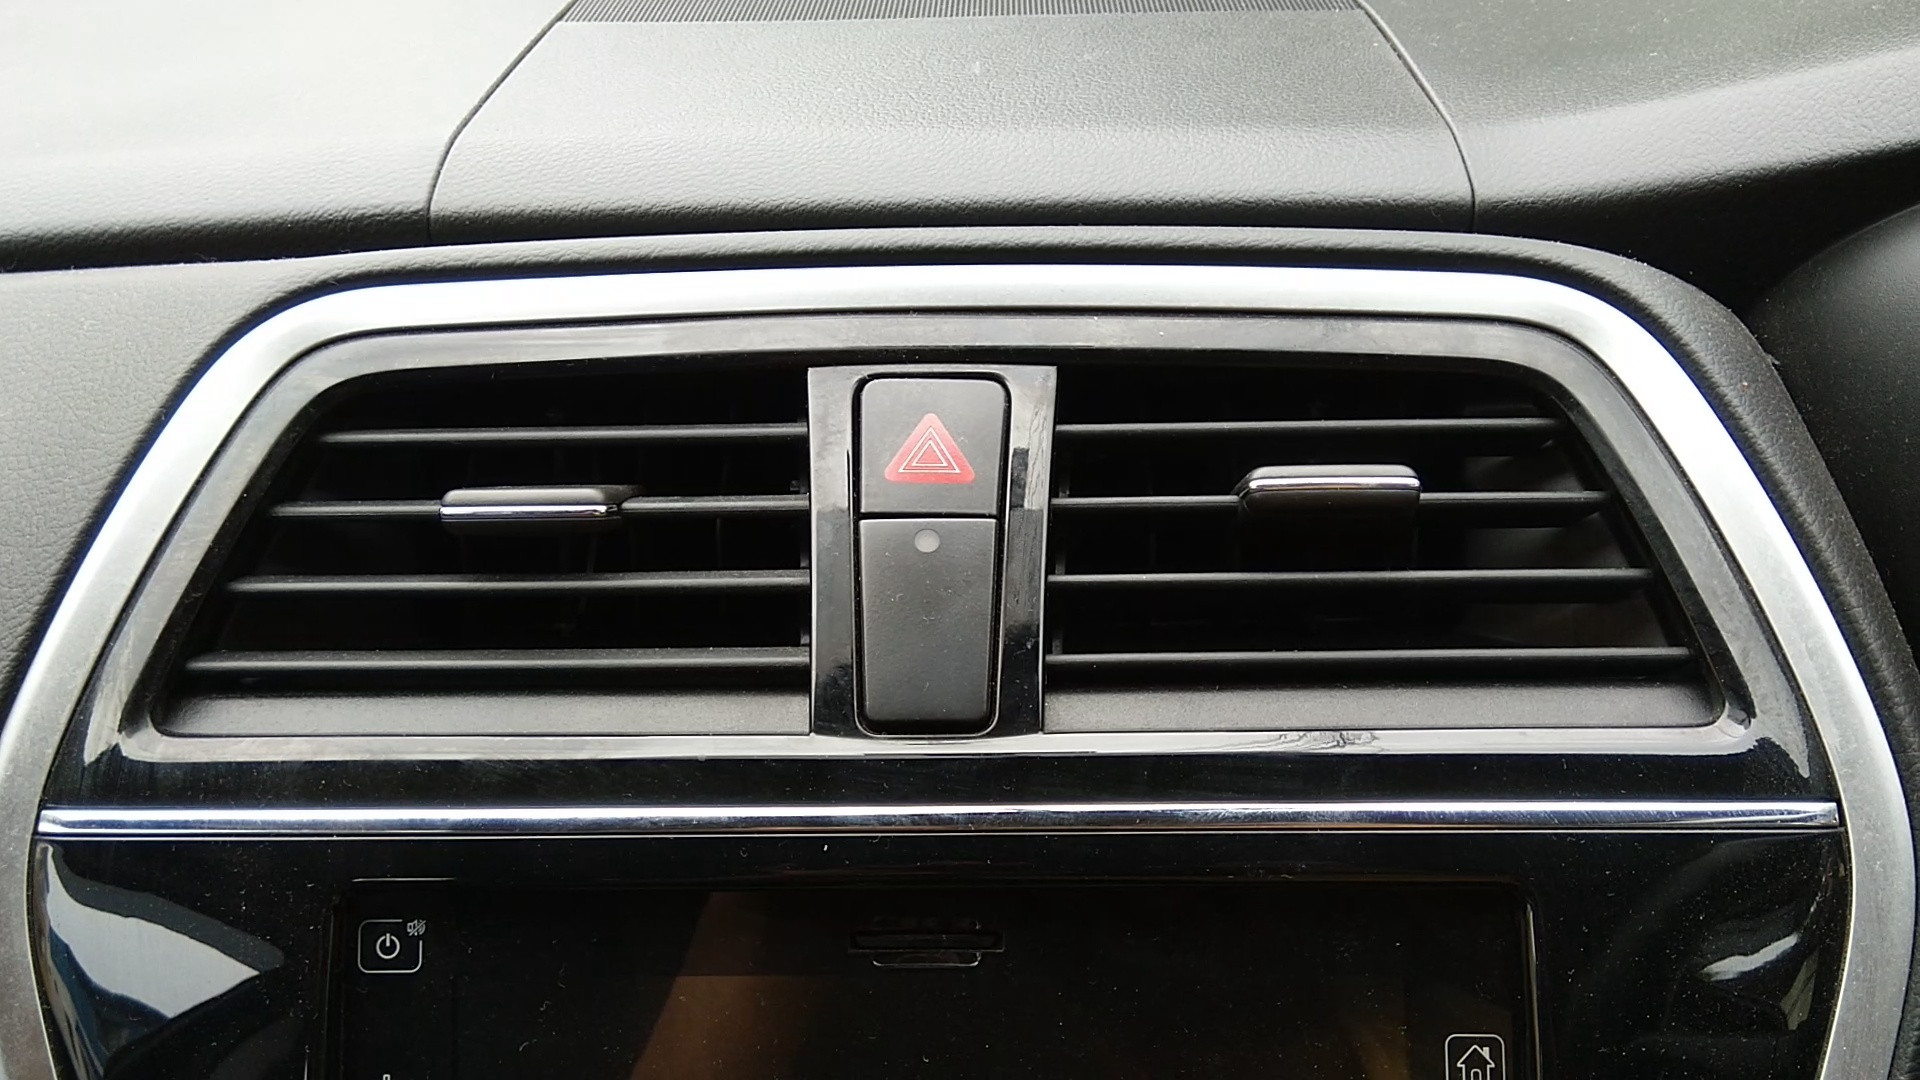parking_button: (874, 386, 989, 500)
